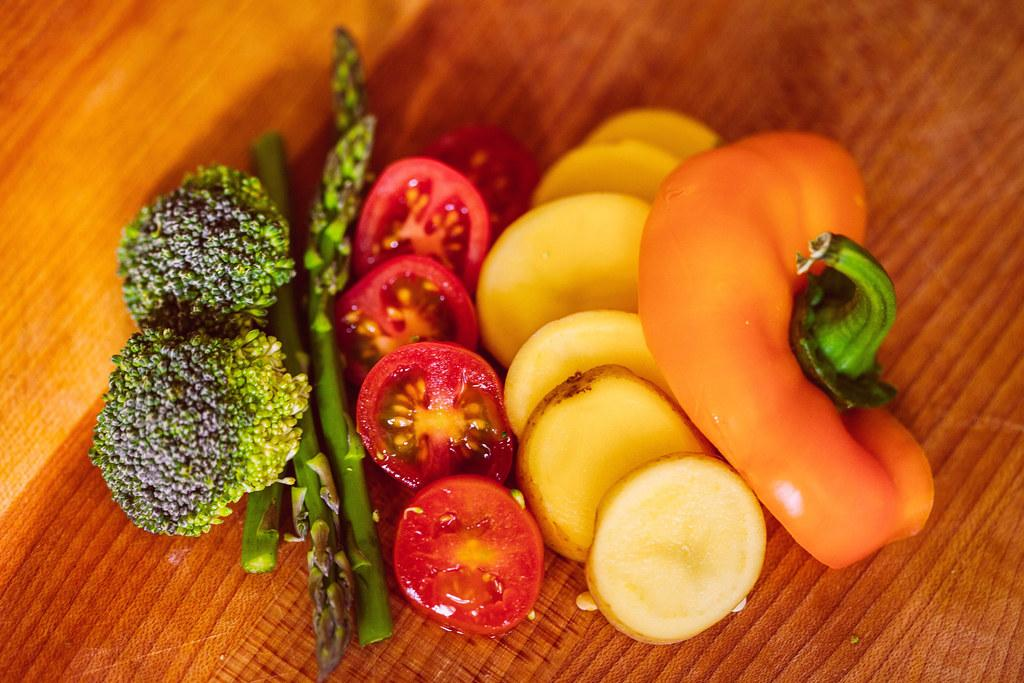bell pepper: (678, 160, 998, 559)
broccoli: (92, 162, 317, 538)
tomato: (368, 129, 572, 633)
